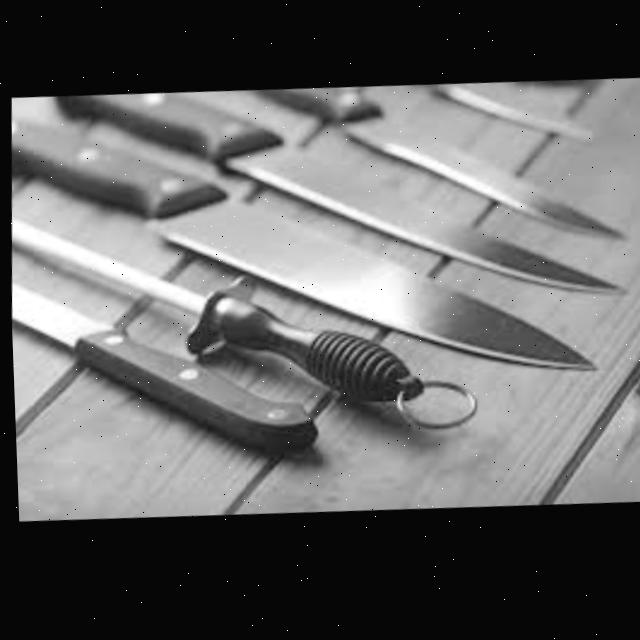knife: (3, 83, 602, 408), (6, 181, 426, 435), (214, 125, 625, 322), (226, 72, 628, 265), (8, 247, 321, 471), (352, 78, 594, 161)
